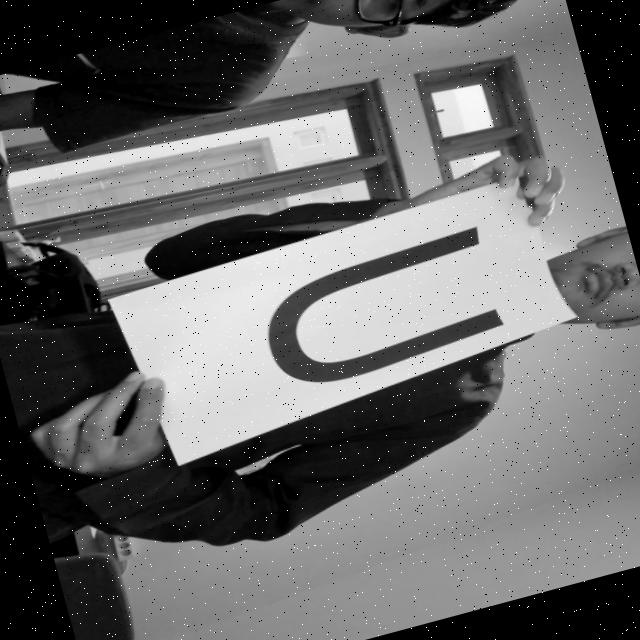u: (220, 204, 540, 426)
